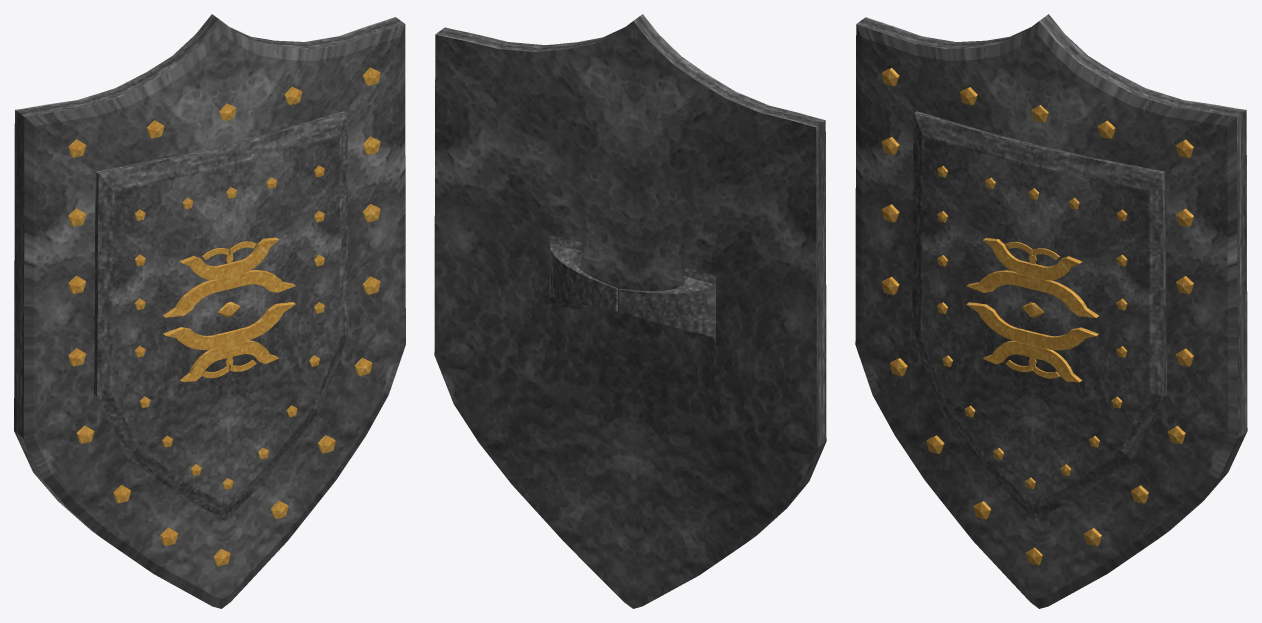
Rendered from sg-shiled-3.obj.
The picture shows the model from 3 angles, left to right: view 1: azimuth 30°, elevation 25°; view 2: azimuth 150°, elevation 25°; view 3: azimuth 330°, elevation 25°; orthographic projection.
Parts seen in each view (by area): view 1: Platonic; view 2: Platonic; view 3: Platonic.
Boxes of the visible parts, <box> form: Platonic: <box>14,14,405,608</box>; Platonic: <box>434,14,826,608</box>; Platonic: <box>855,14,1247,608</box>.
Bounding box in the file's own units: 4.57 × 6.72 × 0.7274.
1 material, 1 textured.
